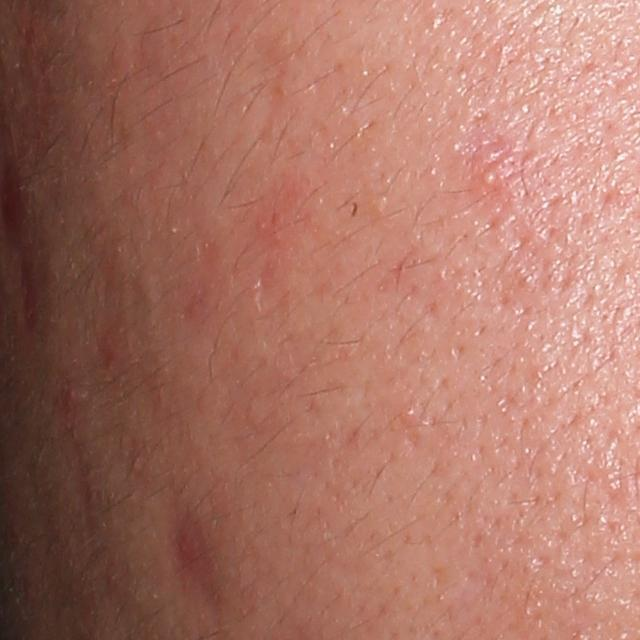pustule: (480, 161, 503, 193)
